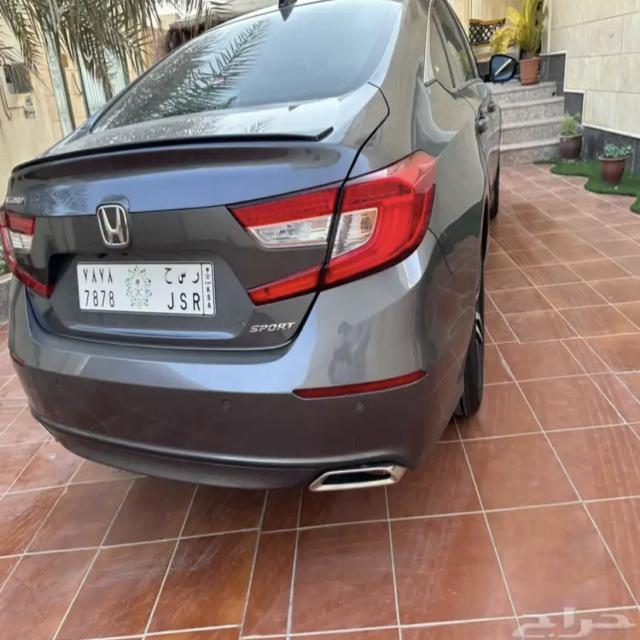license_plate: (76, 254, 213, 317)
